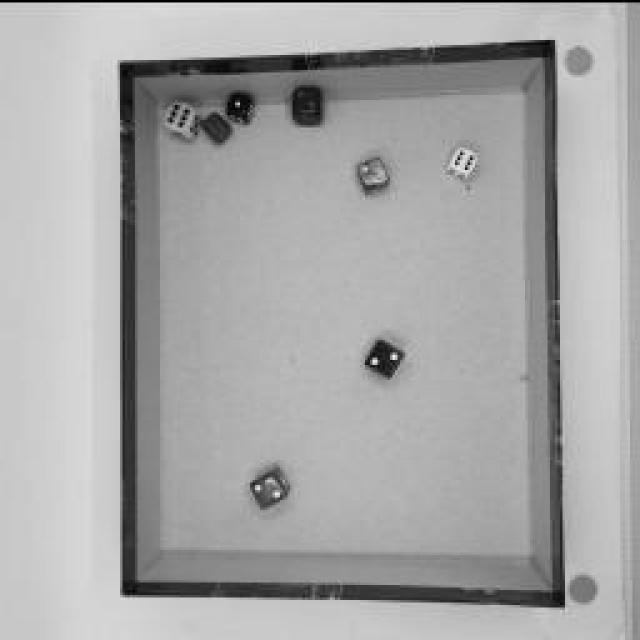dice_1: (228, 88, 258, 122)
dice_2: (248, 465, 294, 505), (362, 338, 408, 378), (291, 82, 329, 128), (355, 151, 395, 194)
dice_4: (202, 110, 232, 145)
dice_6: (165, 98, 203, 138), (446, 145, 476, 177)
